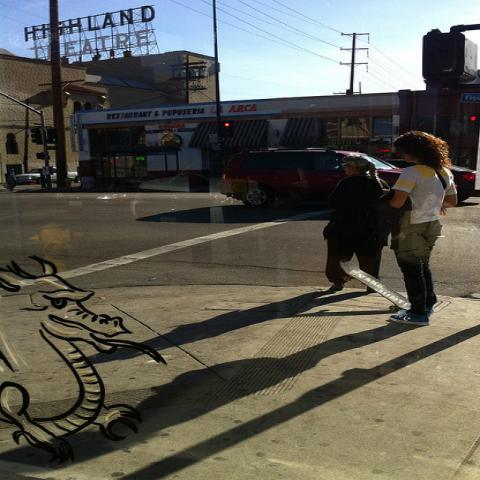car: (217, 148, 476, 210), (15, 168, 82, 186)
